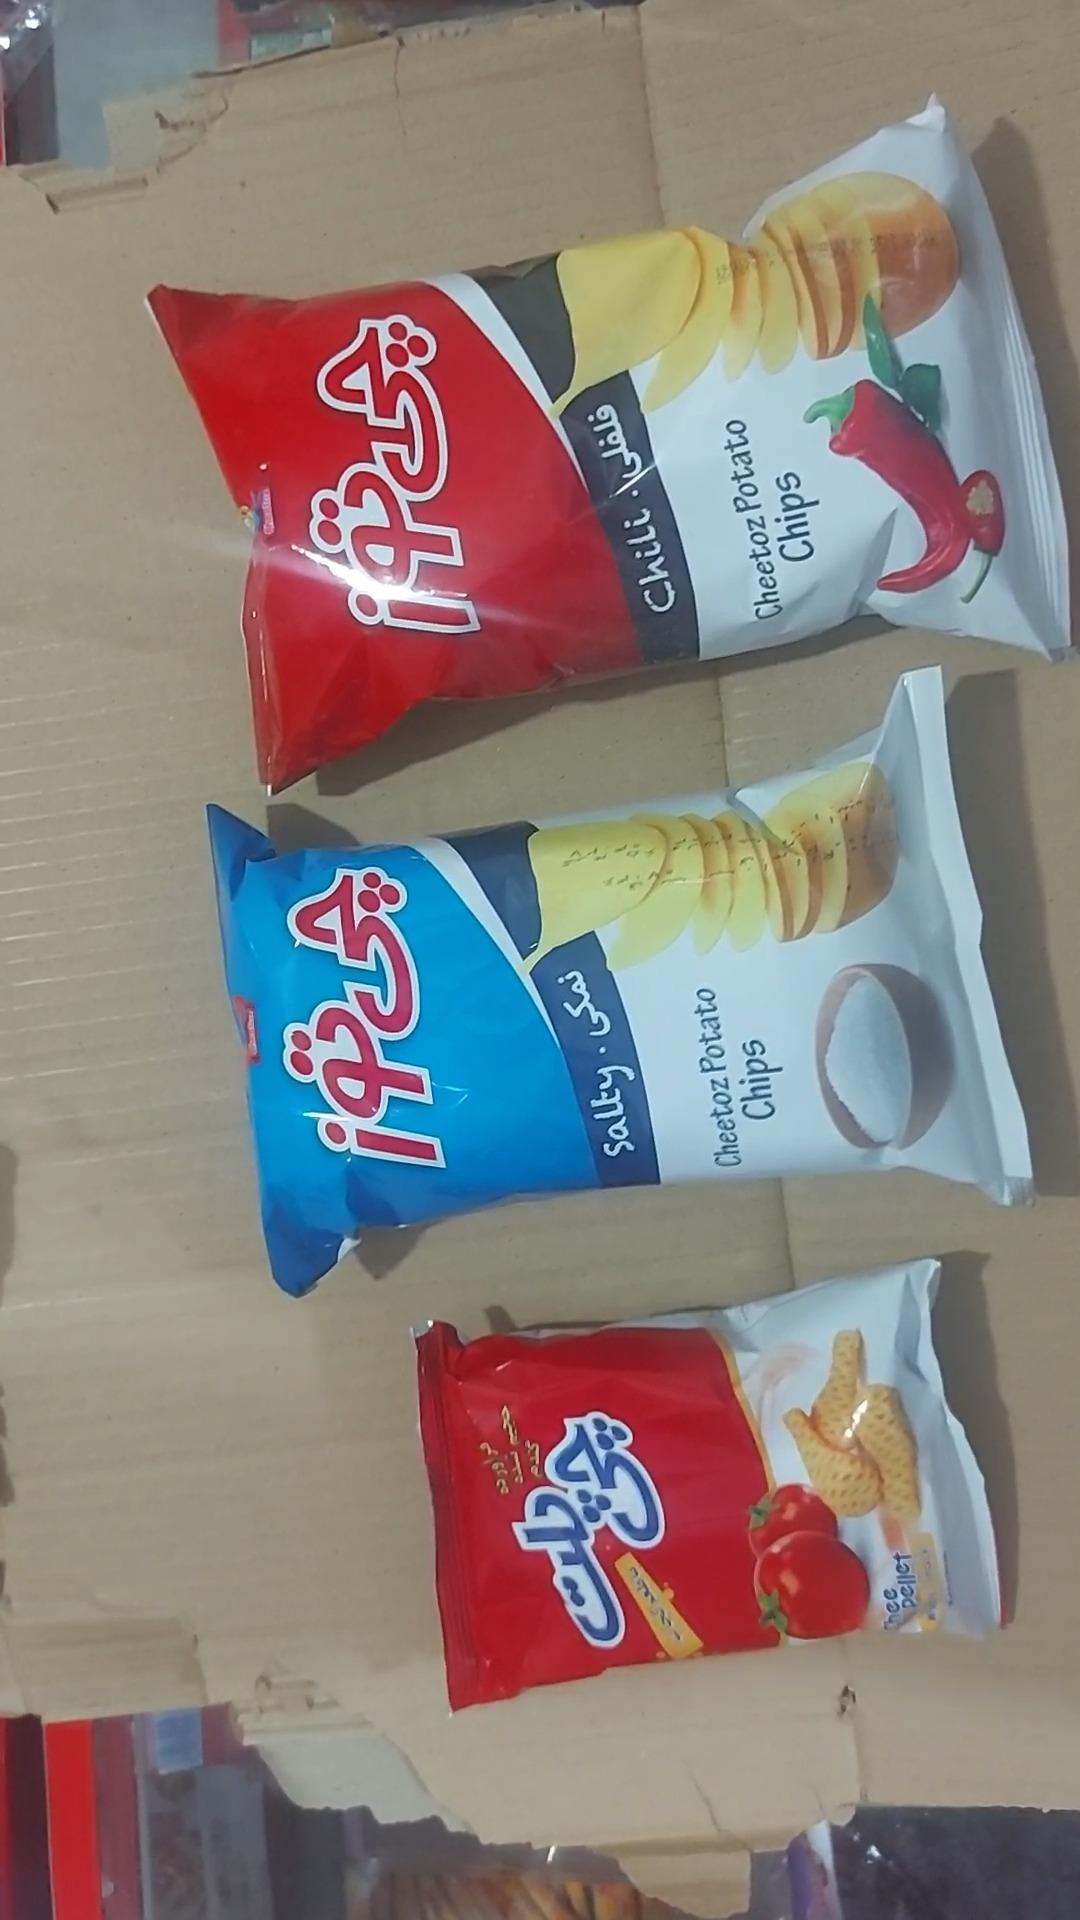Chee pellet ketchup: (413, 1261, 1011, 1716)
Cheetoz chili chips: (148, 94, 1075, 795)
Cheetoz salty chips: (204, 667, 1034, 1302)
